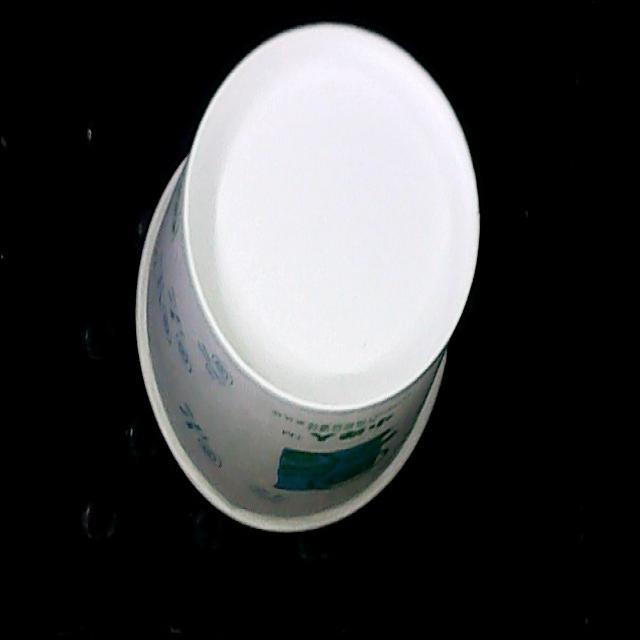-Recyclables - paper cup-: (140, 23, 478, 533)
